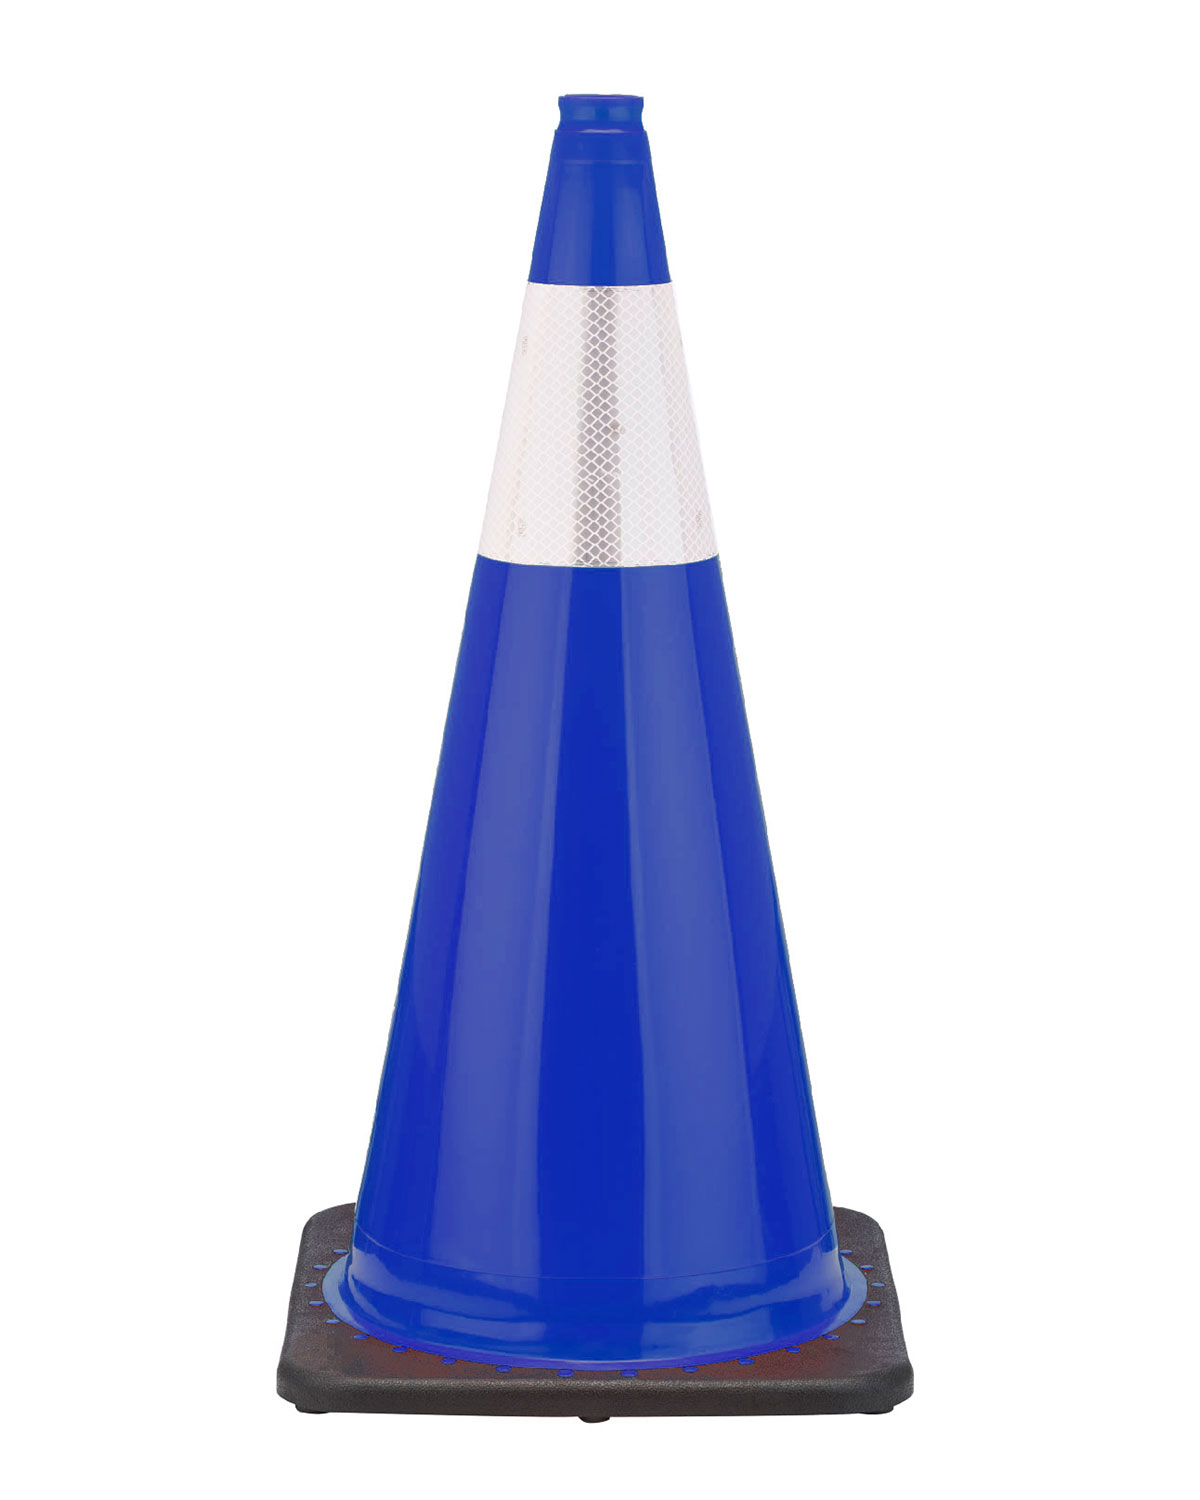cone: (245, 91, 937, 1420)
